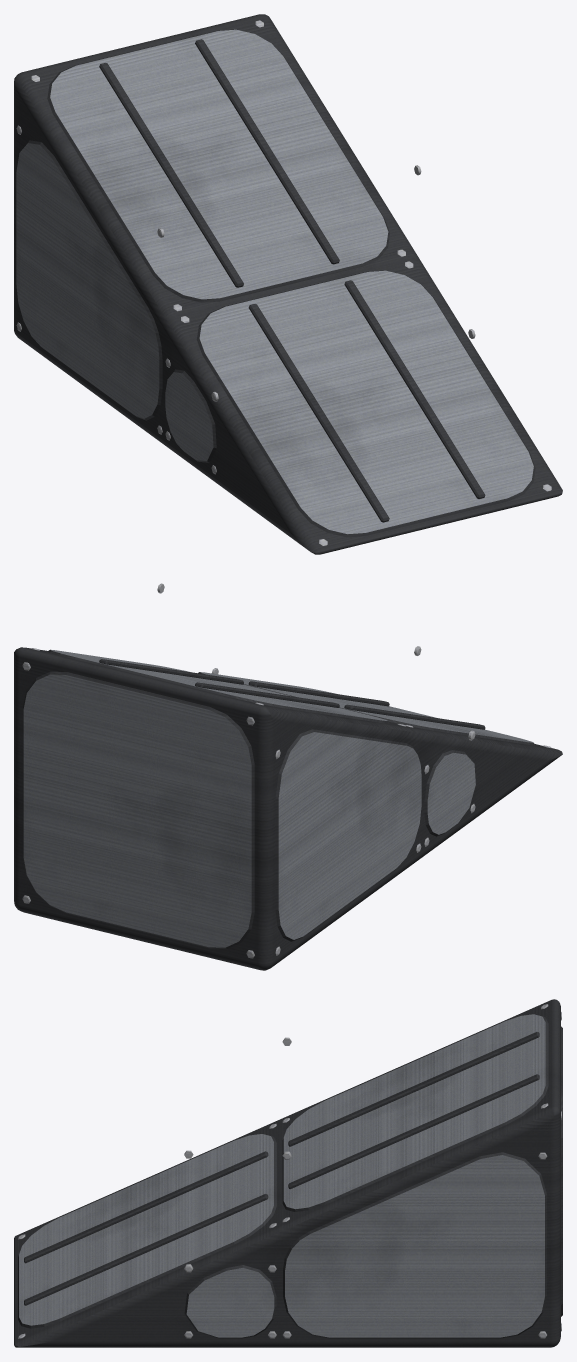
The model's file is R4B_LongWedge.glb.
The picture shows the model from 3 angles, top to bottom: view 1: azimuth 30°, elevation 25°; view 2: azimuth 150°, elevation 25°; view 3: azimuth 270°, elevation 25°; orthographic projection. The views are drawn at different scales.
Visible parts, largest first — view 1: R4B_LongWedge; view 2: R4B_LongWedge; view 3: R4B_LongWedge.
Boxes of the visible parts, x1,y1,x2,y2 form: R4B_LongWedge: (14,14,562,554); R4B_LongWedge: (14,583,562,970); R4B_LongWedge: (14,999,562,1347).
Size of the model in its own units: 0.52 by 0.5061 by 1.04.
3 materials, 3 textured.
